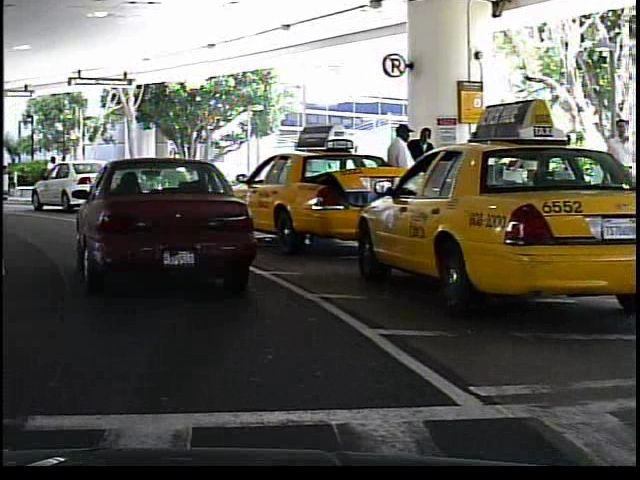person: (592, 114, 636, 240), (381, 122, 419, 238), (407, 122, 439, 230), (39, 152, 64, 195)
